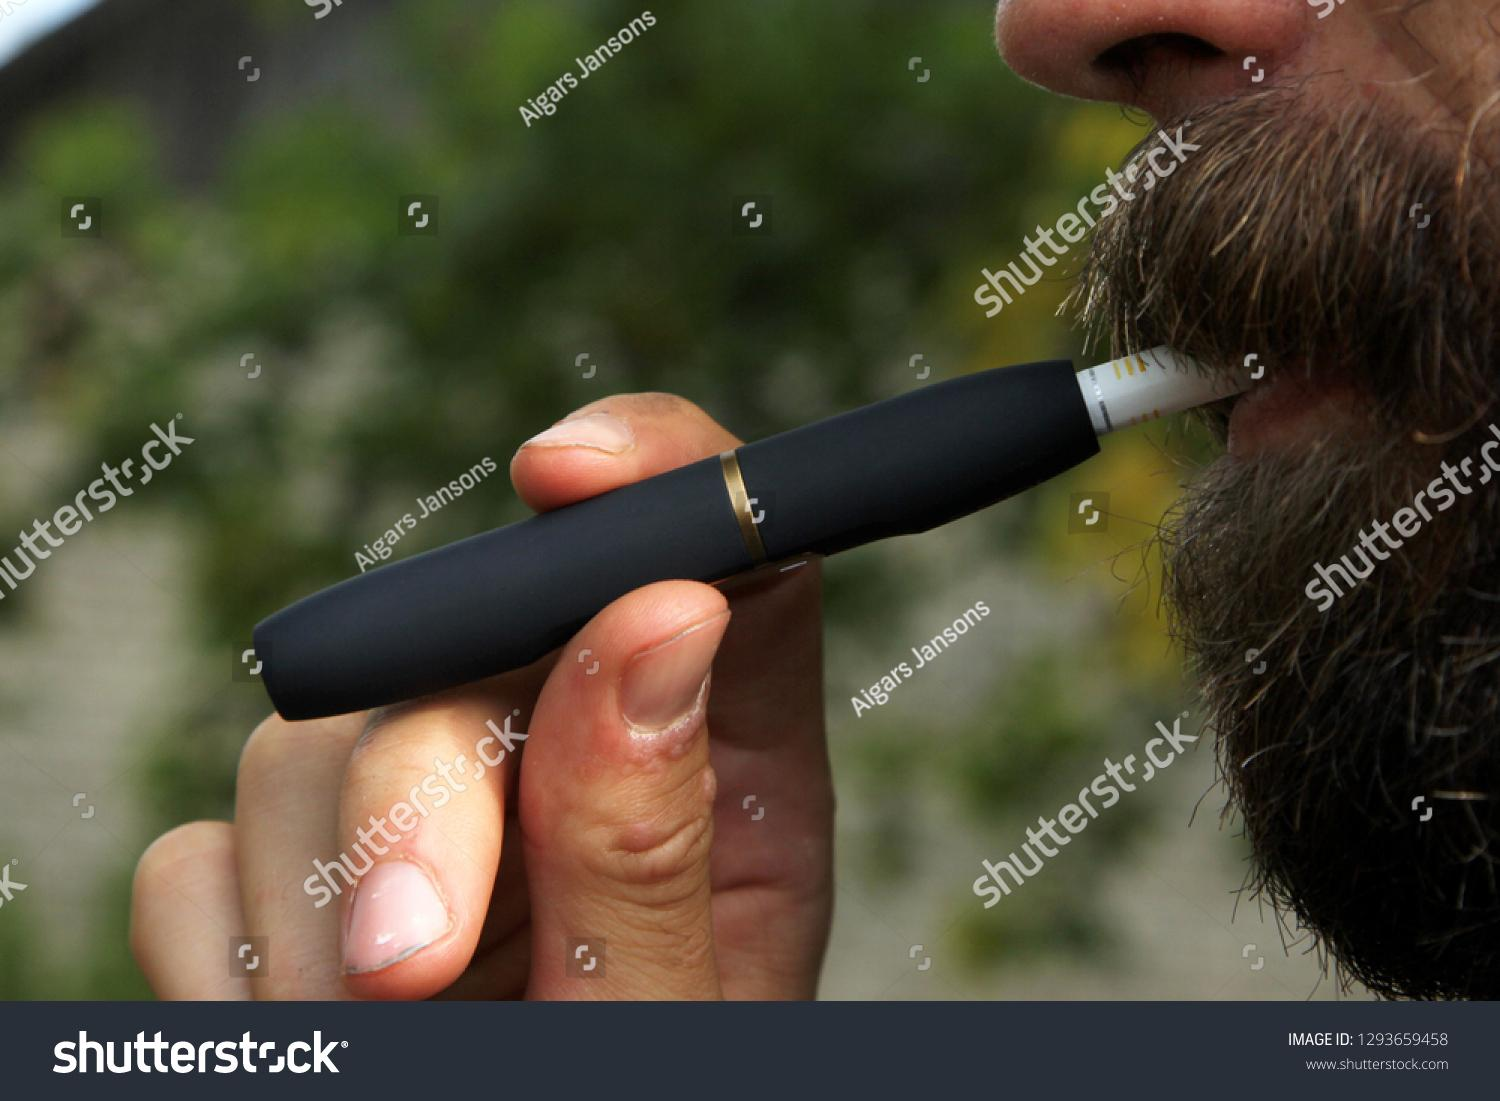iqos: (256, 346, 1262, 719)
